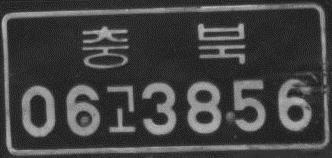0: (19, 82, 57, 139)
3: (141, 80, 178, 137)
5: (231, 77, 267, 133)
6: (64, 83, 102, 140), (277, 75, 313, 134)
8: (185, 80, 223, 135)
고: (103, 84, 138, 134)
충북_D: (80, 21, 248, 73)
